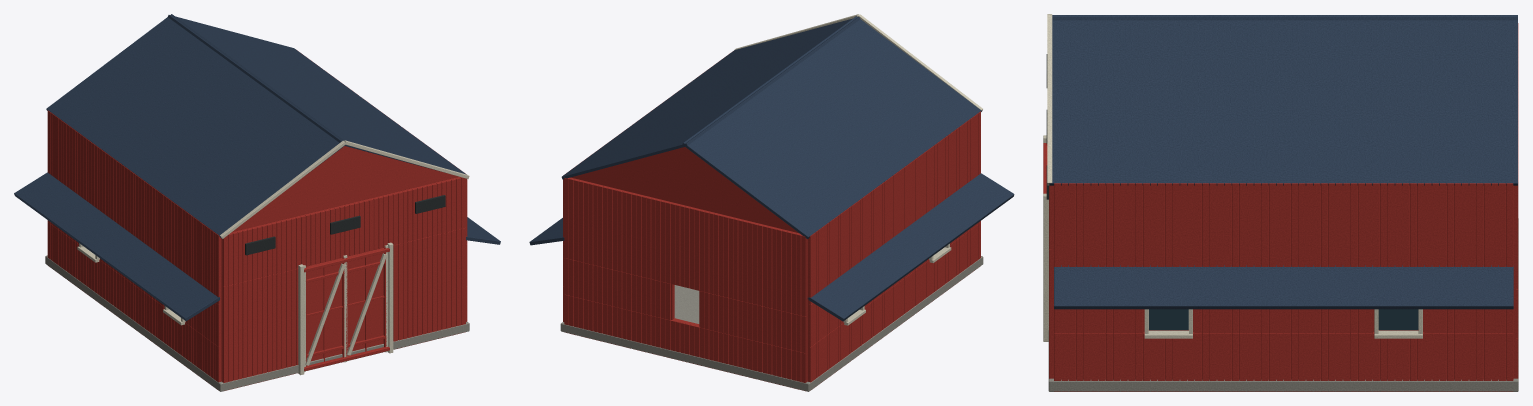
The model's file is BARND2_lod1.glb.
3 views of the same model, side by side, from view 1: azimuth 30°, elevation 25°; view 2: azimuth 150°, elevation 25°; view 3: azimuth 270°, elevation 25° (orthographic). The views are drawn at different scales.
Parts seen in each view (by area): view 1: BARND2_LOD1; view 2: BARND2_LOD1; view 3: BARND2_LOD1.
Boxes of the visible parts, box(x1,y1,x2,y2) form: BARND2_LOD1: box(14, 14, 500, 391); BARND2_LOD1: box(529, 14, 1014, 391); BARND2_LOD1: box(1043, 14, 1518, 391).
Size of the model in its own units: 11.71 by 7.84 by 11.38.
9 materials, 7 textured.
